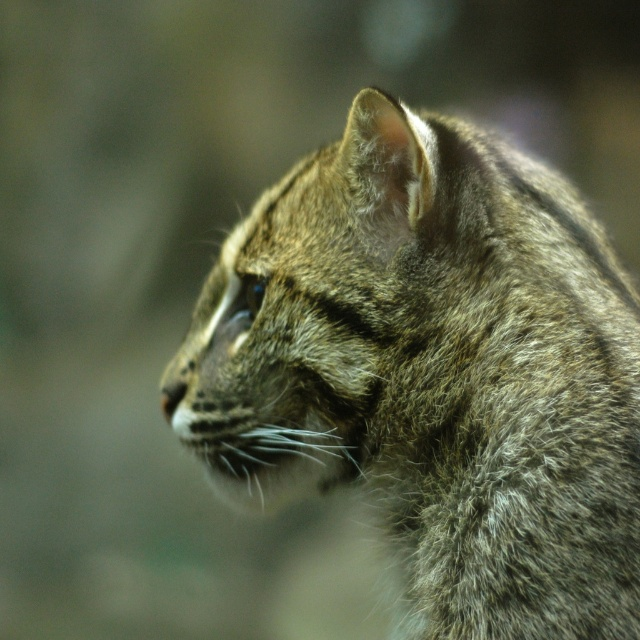Lynx: (150, 70, 639, 640)
